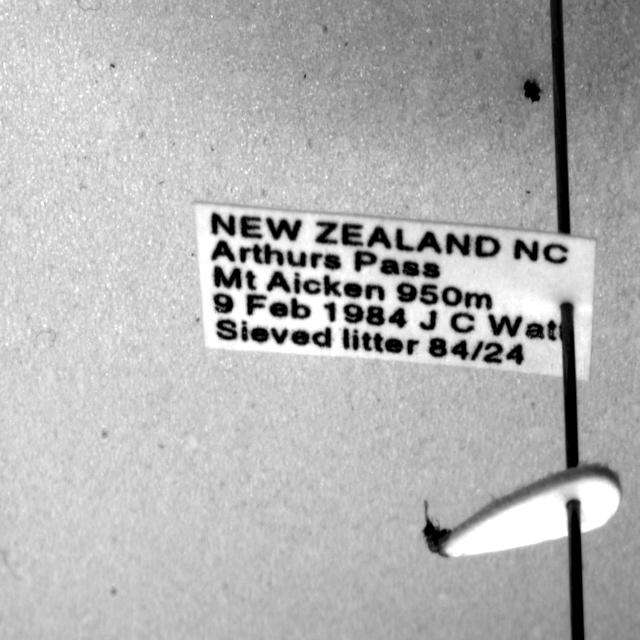typed_label: (195, 202, 596, 379)
